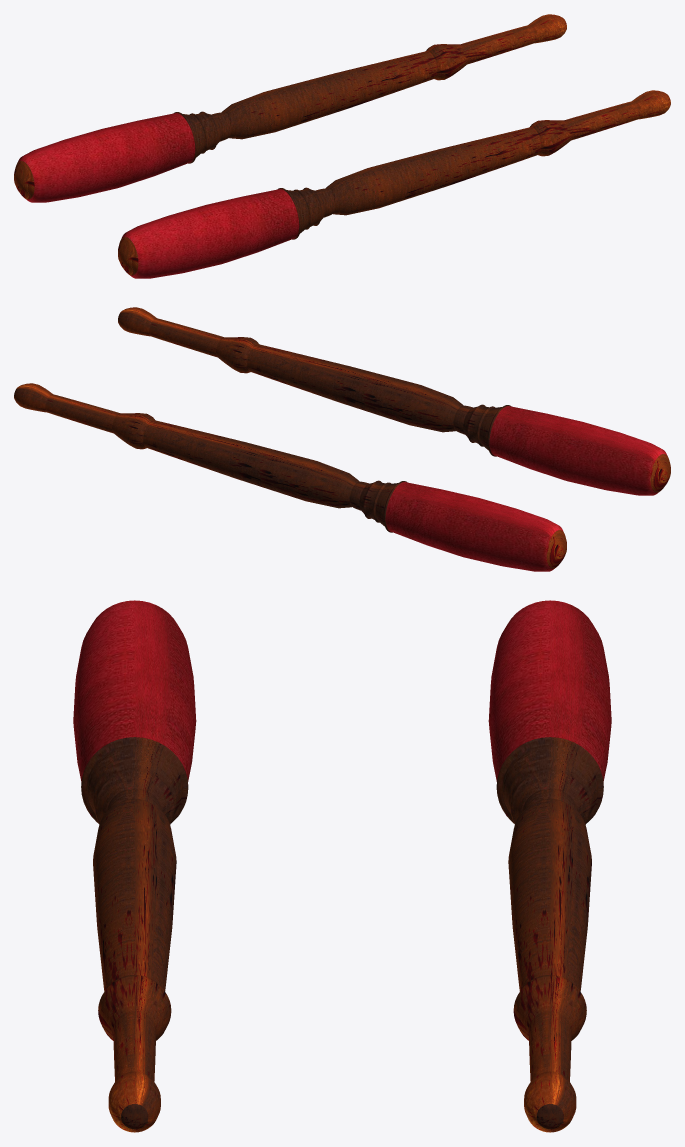
The model's file is gamelan stick.fbx.
3 renders of one model, top to bottom at view 1: azimuth 30°, elevation 25°; view 2: azimuth 150°, elevation 25°; view 3: azimuth 270°, elevation 25°, orthographic. The views are drawn at different scales.
Parts seen in each view (by area): view 1: stick, stick1; view 2: stick, stick1; view 3: stick1, stick.
Boxes of the visible parts, <box> form: stick: <box>14,14,566,202</box>; stick1: <box>118,90,670,278</box>; stick: <box>14,383,566,571</box>; stick1: <box>118,307,670,495</box>; stick1: <box>73,600,196,1132</box>; stick: <box>488,600,611,1132</box>.
Size of the model in its own units: 3.94 by 0.4371 by 1.68.
2 materials, 2 textured.
